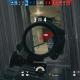Character: (48, 34, 55, 49)
Friend_label: (72, 27, 76, 29)
